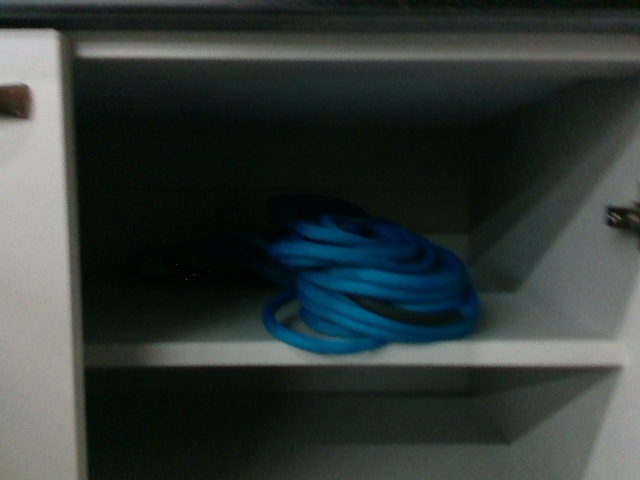rope: (266, 216, 480, 344)
